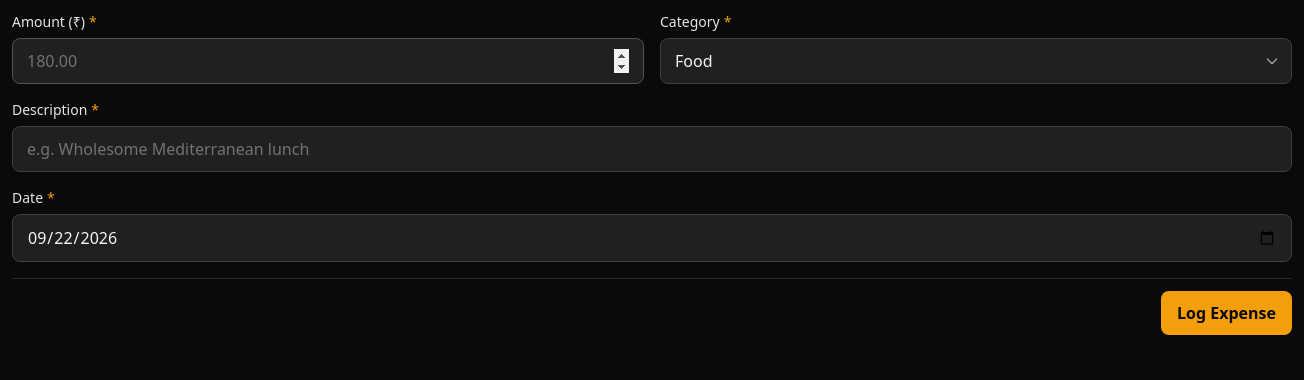
Test: Expense Component & Form Validation › rejects negative amount and displays accessible error
The width and height of the screenshot is (1304, 380).
Type "-100" into the number field labelled "Amount (₹)*" at x=328, y=61, box [12,38,644,84]
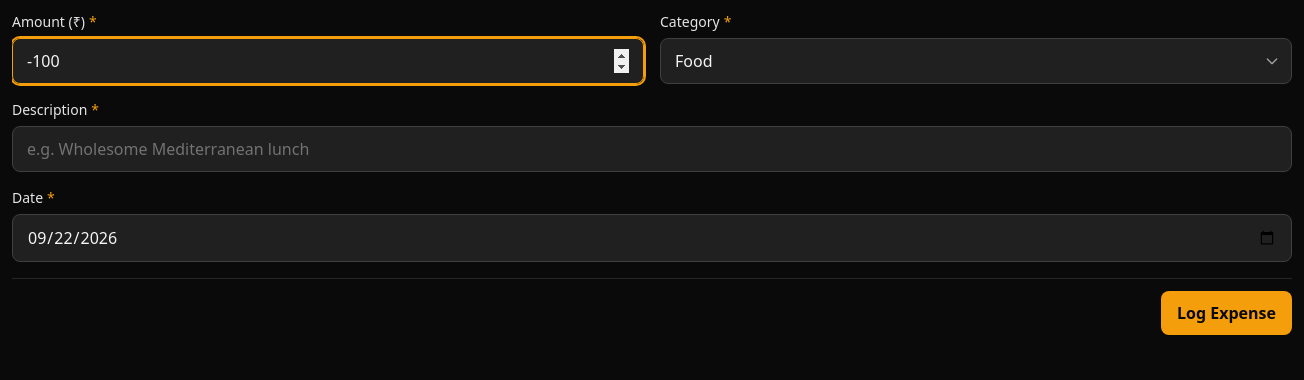
Type "Invalid Negative Expense" into the field labelled "Description*" at x=652, y=149, box [12,126,1292,172]
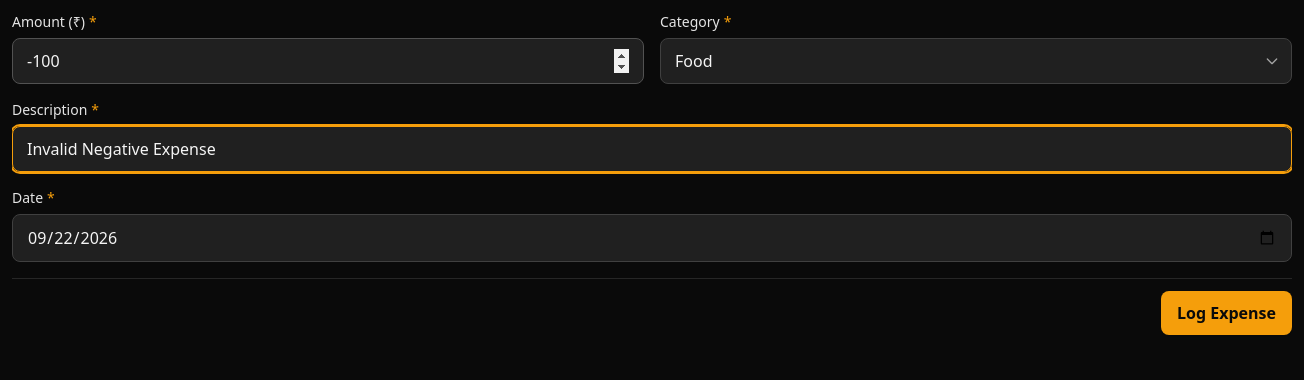
Click the button "Log Expense" at x=1226, y=313, box [1161,291,1292,335]
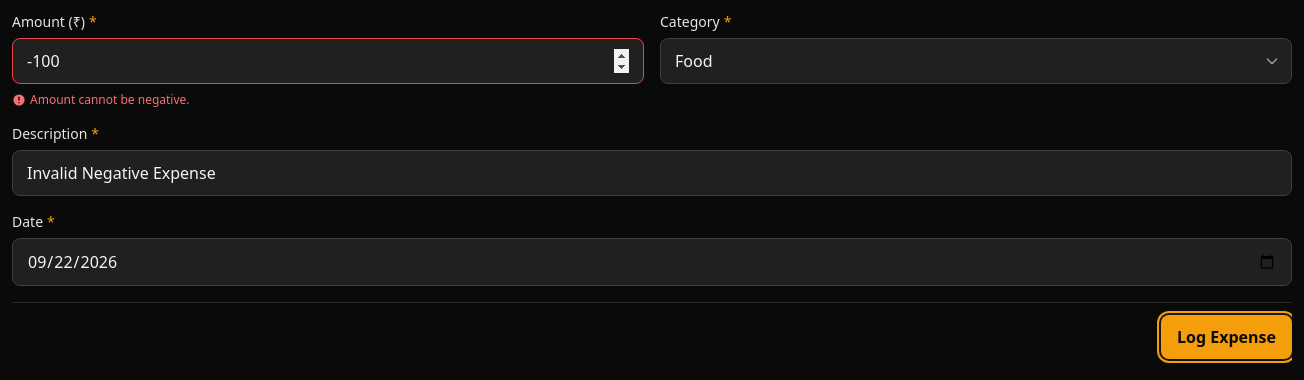
Check: the text "Amount cannot be negative." is shown, box [12,91,190,108]
